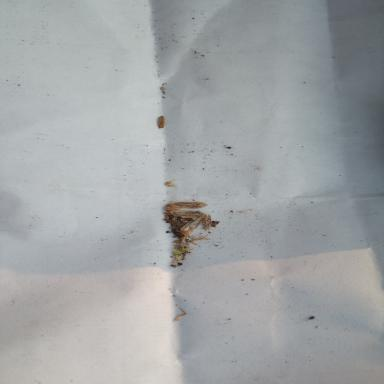pbw: (163, 201, 208, 217), (156, 114, 166, 130), (180, 248, 190, 260)
